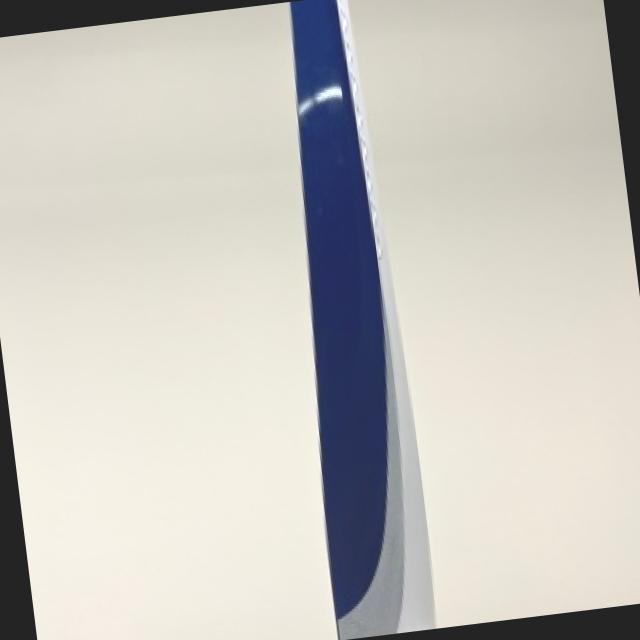healthy: (294, 0, 437, 638)
